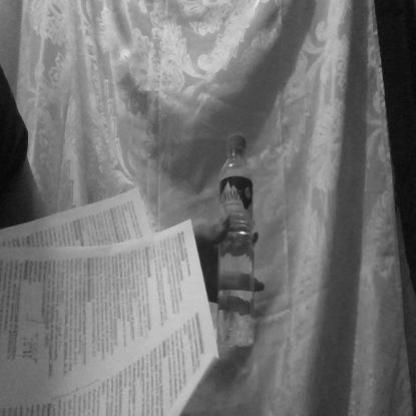Plastic Bottle: (206, 117, 270, 371)
